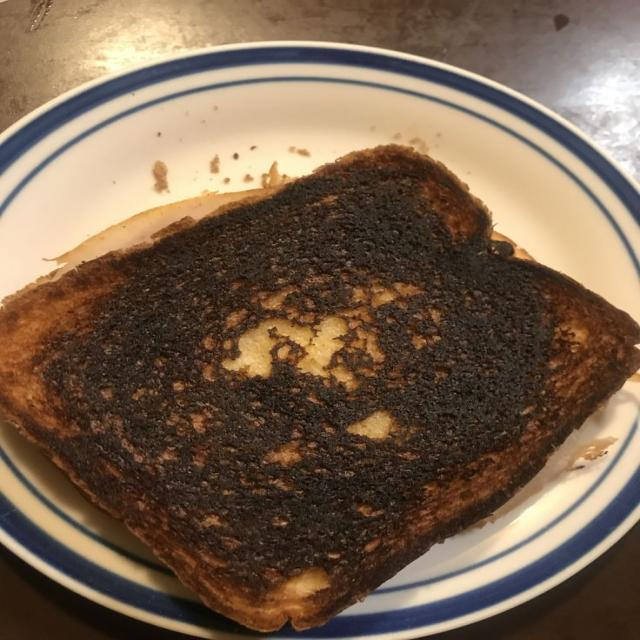toast bread: (0, 145, 639, 631)
